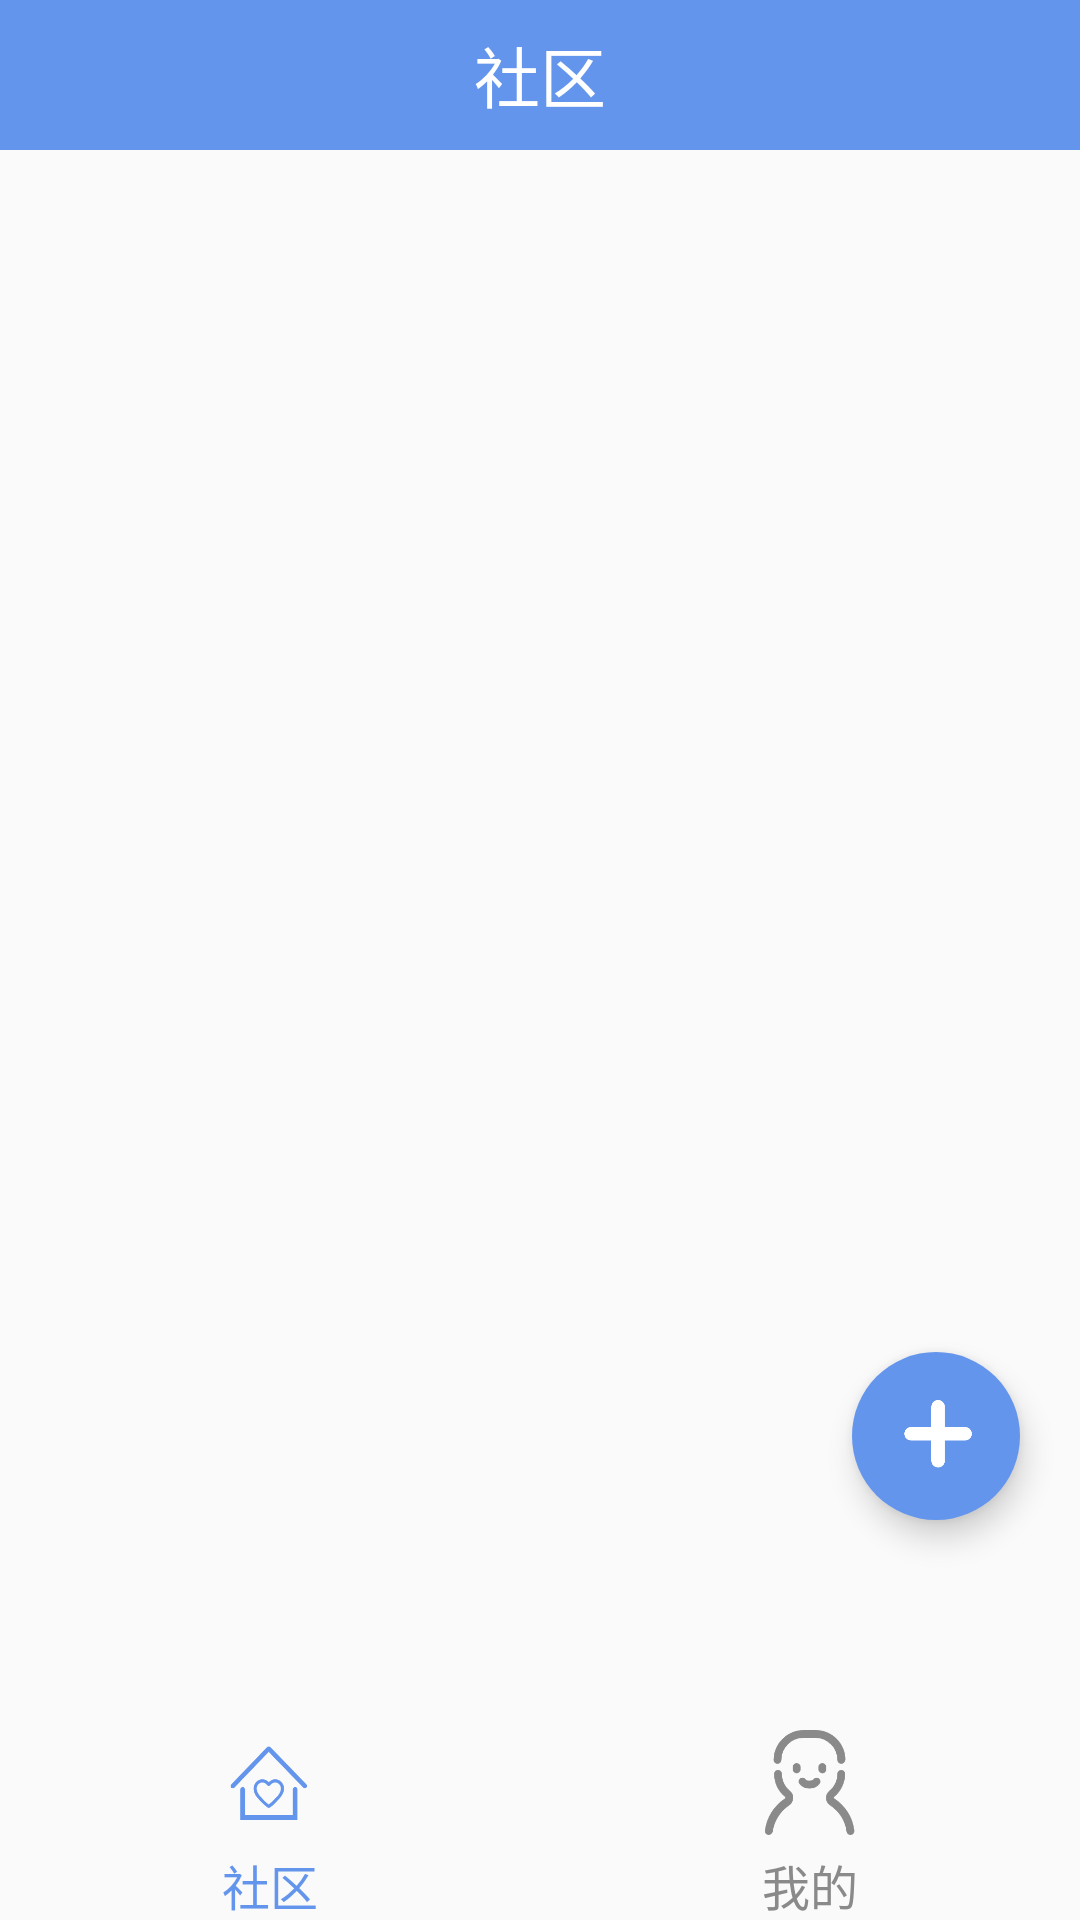

Named icons in this screenshot (1080*1920) and their bounding boxes, {"x1": x1, "y1": y1, "x2": x2, "y2": y2}:
add: {"x1": 852, "y1": 1352, "x2": 1020, "y2": 1520}
community: {"x1": 230, "y1": 1746, "x2": 307, "y2": 1820}
